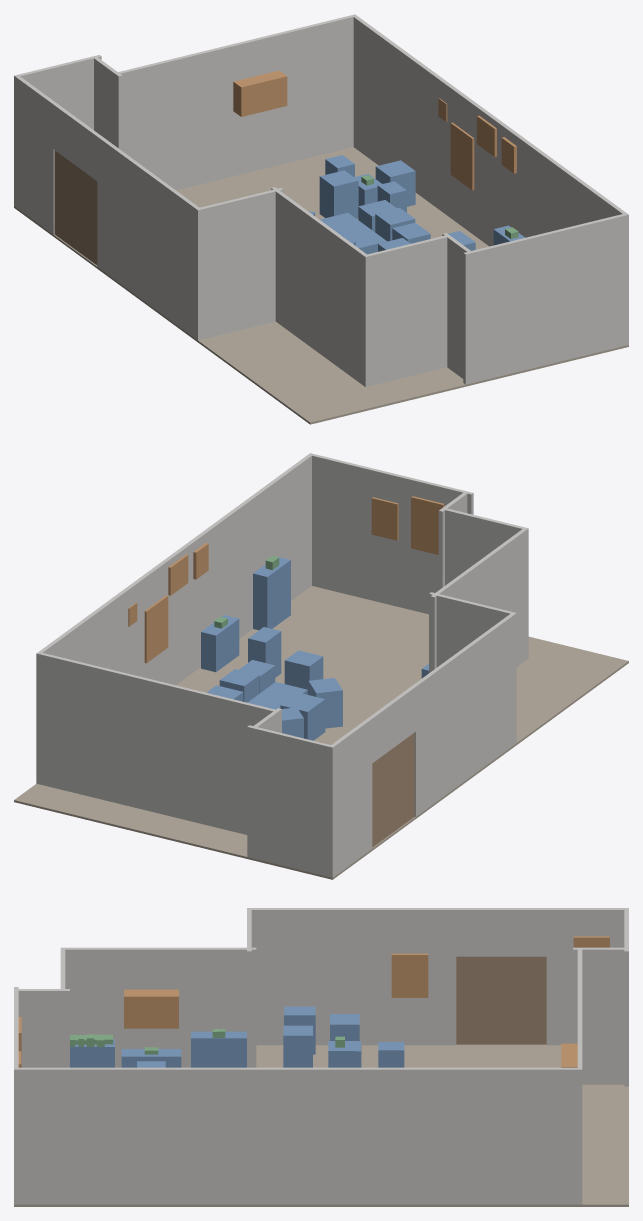
File: room_103.glb
The picture shows the model from 3 angles, top to bottom: view 1: azimuth 30°, elevation 25°; view 2: azimuth 150°, elevation 25°; view 3: azimuth 270°, elevation 25°; orthographic projection. The views are drawn at different scales.
Visible parts, largest first — view 1: shell_wall_6_s0, shell_wall_5_s0, shell_wall_4_s0, shell_floor, shell_wall_9_s2, shell_wall_1_s0, shell_wall_2_s0, shell_wall_0_s0, shell_wall_9_s0, shell_wall_9_door, shell_wall_8_s0, shell_wall_3_s0 (+12 smaller); view 2: shell_wall_6_s0, shell_floor, shell_wall_5_s0, shell_wall_4_s0, shell_wall_9_s2, shell_wall_8_s0, shell_wall_9_s0, shell_wall_1_s0, shell_wall_9_door, shell_wall_2_s0, shell_wall_0_s0, obj_030 (+16 smaller); view 3: shell_wall_5_s0, shell_wall_9_s2, shell_wall_1_s0, shell_floor, shell_wall_9_door, shell_wall_7_s0, shell_wall_9_s0, shell_wall_9_s1, shell_wall_3_s0, obj_014, obj_031, obj_018 (+14 smaller).
Boxes of the visible parts, <box> form: shell_wall_6_s0: <box>114,14,356,190</box>; shell_wall_5_s0: <box>352,14,628,344</box>; shell_wall_4_s0: <box>463,213,628,384</box>; shell_floor: <box>14,147,628,424</box>; shell_wall_9_s2: <box>97,135,201,339</box>; shell_wall_1_s0: <box>271,187,369,387</box>; shell_wall_2_s0: <box>363,234,450,386</box>; shell_wall_0_s0: <box>195,188,283,340</box>; shell_wall_9_s0: <box>14,75,56,234</box>; shell_wall_9_door: <box>54,150,97,265</box>; shell_wall_8_s0: <box>14,55,101,206</box>; shell_wall_3_s0: <box>442,233,473,383</box>; shell_wall_6_s0: <box>36,652,279,834</box>; shell_floor: <box>14,586,628,879</box>; shell_wall_5_s0: <box>36,454,312,783</box>; shell_wall_4_s0: <box>308,453,473,614</box>; shell_wall_9_s2: <box>412,613,516,816</box>; shell_wall_8_s0: <box>247,725,334,877</box>; shell_wall_9_s0: <box>329,717,372,876</box>; shell_wall_1_s0: <box>430,527,528,671</box>; shell_wall_9_door: <box>372,733,414,847</box>; shell_wall_2_s0: <box>441,508,528,659</box>; shell_wall_0_s0: <box>429,592,515,672</box>; obj_030: <box>253,556,290,630</box>; shell_wall_5_s0: <box>14,1067,582,1204</box>; shell_wall_9_s2: <box>248,908,456,1045</box>; shell_wall_1_s0: <box>60,947,256,1067</box>; shell_floor: <box>14,1044,628,1206</box>; shell_wall_9_door: <box>456,956,546,1044</box>; shell_wall_7_s0: <box>573,947,628,1084</box>; shell_wall_9_s0: <box>546,908,626,1045</box>; shell_wall_9_s1: <box>456,908,546,956</box>; shell_wall_3_s0: <box>14,989,69,1067</box>; obj_014: <box>124,989,178,1028</box>; obj_031: <box>191,1031,246,1067</box>; obj_018: <box>391,953,428,997</box>.
Bounding box in the file's own units: 8.2 × 3.25 × 13.2.
